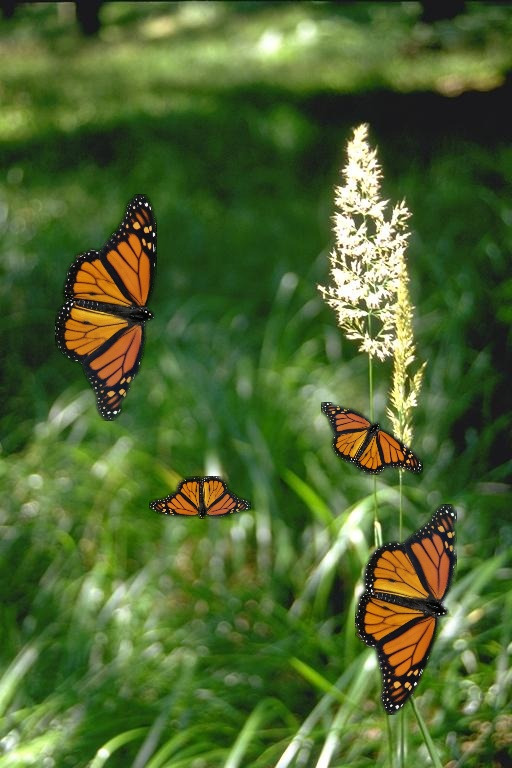danaus_plexippus: (55, 194, 157, 421), (355, 504, 457, 710), (321, 402, 423, 475), (149, 476, 251, 519)
